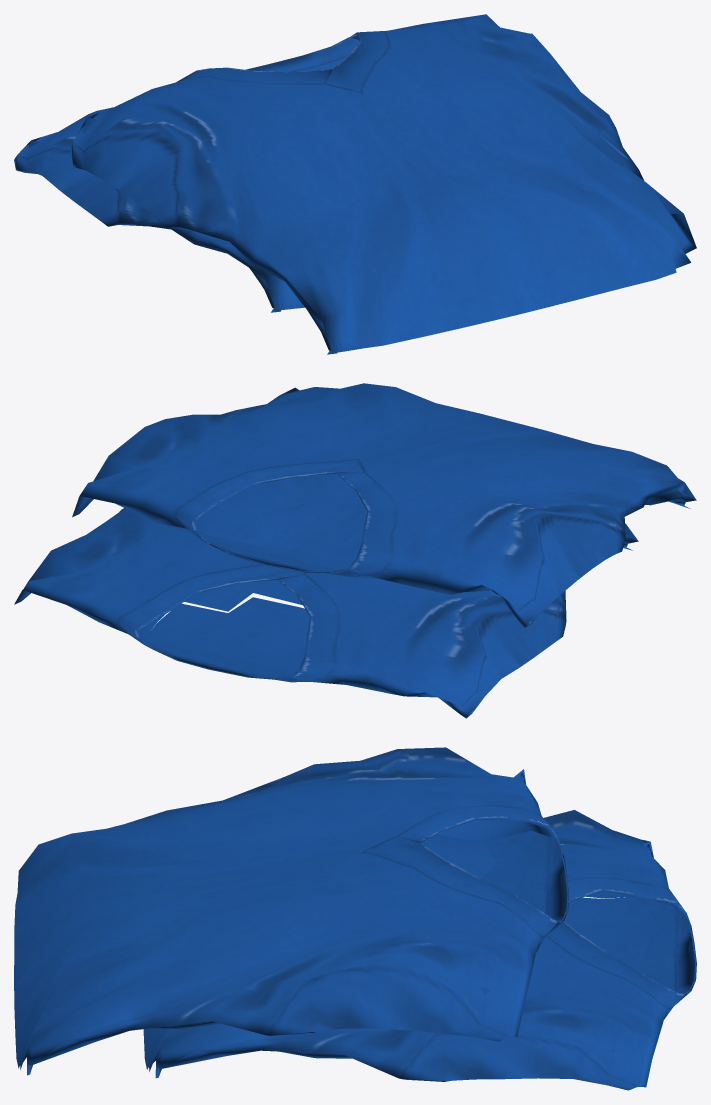
Rendered from Scrubs_Shelf.fbx.
3 renders of one model, top to bottom at view 1: azimuth 30°, elevation 25°; view 2: azimuth 150°, elevation 25°; view 3: azimuth 270°, elevation 25°, orthographic. The views are drawn at different scales.
Visible parts, largest first — view 1: Scrubs_Shelf; view 2: Scrubs_Shelf; view 3: Scrubs_Shelf.
Part boxes in pixels (box(x1,y1,x2,y2)): Scrubs_Shelf: box(14, 14, 696, 354); Scrubs_Shelf: box(14, 383, 696, 718); Scrubs_Shelf: box(14, 747, 696, 1090).
Size of the model in its own units: 10.29 by 2.62 by 11.98.
Materials: 1 (1 with a texture image).
